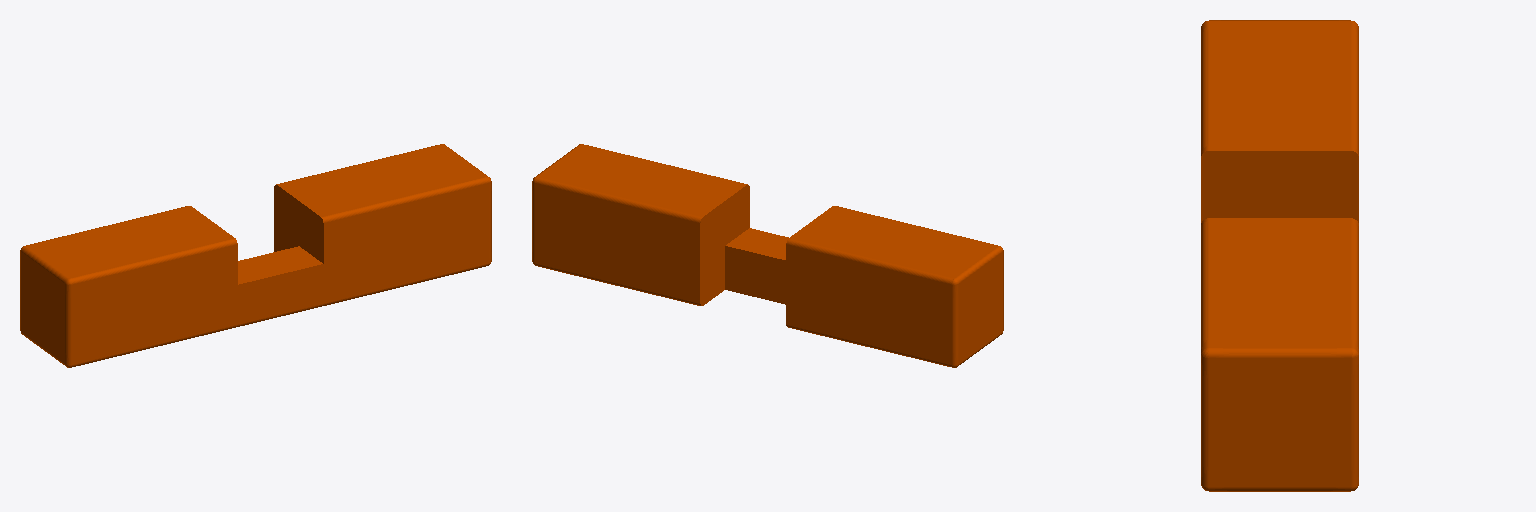
robot.urdf — piece_1:
<robot name="piece_1" version="1.0">
  <link name="piece_1">
    <collision name="geometry_0">
      <origin rpy="1.57080 -0.00000 -3.14159" xyz="-1.01279 0.58515 0.50026"/>
      <geometry>
        <mesh filename="../meshes/obj/geometry_0.obj" scale="1.00000 1.00000 1.00000"/>
      </geometry>
    </collision>
    <collision name="geometry_1">
      <origin rpy="1.57080 -0.00000 -3.14159" xyz="-0.57068 0.49669 0.41254"/>
      <geometry>
        <mesh filename="../meshes/obj/geometry_1.obj" scale="1.00000 1.00000 1.00000"/>
      </geometry>
    </collision>
    <collision name="geometry_2">
      <origin rpy="1.57080 -0.00000 -3.14159" xyz="-0.13412 0.58473 0.49983"/>
      <geometry>
        <mesh filename="../meshes/obj/geometry_2.obj" scale="1.00000 1.00000 1.00000"/>
      </geometry>
    </collision>
    <inertial>
      <inertia ixx="0.00032" ixy="-0.00000" ixz="-0.00000" iyy="0.00455" iyz="-0.00000" izz="0.00455"/>
      <origin rpy="0.00000 0.00000 0.00000" xyz="-0.57315 0.58130 0.49640"/>
      <mass value="0.05000"/>
    </inertial>
    <visual name="lubanlock2">
      <material name="turnarrow_orange"/>
      <origin rpy="1.57080 0.00000 -3.14159" xyz="-0.57336 0.58248 0.49757"/>
      <geometry>
        <mesh filename="../meshes/obj/lubanlock2.obj" scale="0.01000 0.01000 0.01000"/>
      </geometry>
    </visual>
  </link>
  <material name="turnarrow_orange">
    <color rgba="0.78824 0.34510 0.00000 1.00000"/>
  </material>
</robot>

--- Render facts (derived) ---
Views: 3 orthographic renders of the robot side by side, from view 1: azimuth 30°, elevation 25°; view 2: azimuth 150°, elevation 25°; view 3: azimuth 270°, elevation 25°.
Robot: piece_1 — 1 links, 0 joints (none); root link piece_1; default pose: every joint at zero.
Links seen in each view (by area): view 1: piece_1; view 2: piece_1; view 3: piece_1.
Boxes of the visible links, x1,y1,x2,y2 form: piece_1: [20, 144, 491, 367]; piece_1: [532, 144, 1003, 367]; piece_1: [1201, 20, 1358, 491].
Bounding box of the posed robot: 1 × 0.2 × 0.2 m (x, y, z).
Meshes: 1 distinct files referenced, 1 mesh visuals loaded (1 OBJ).